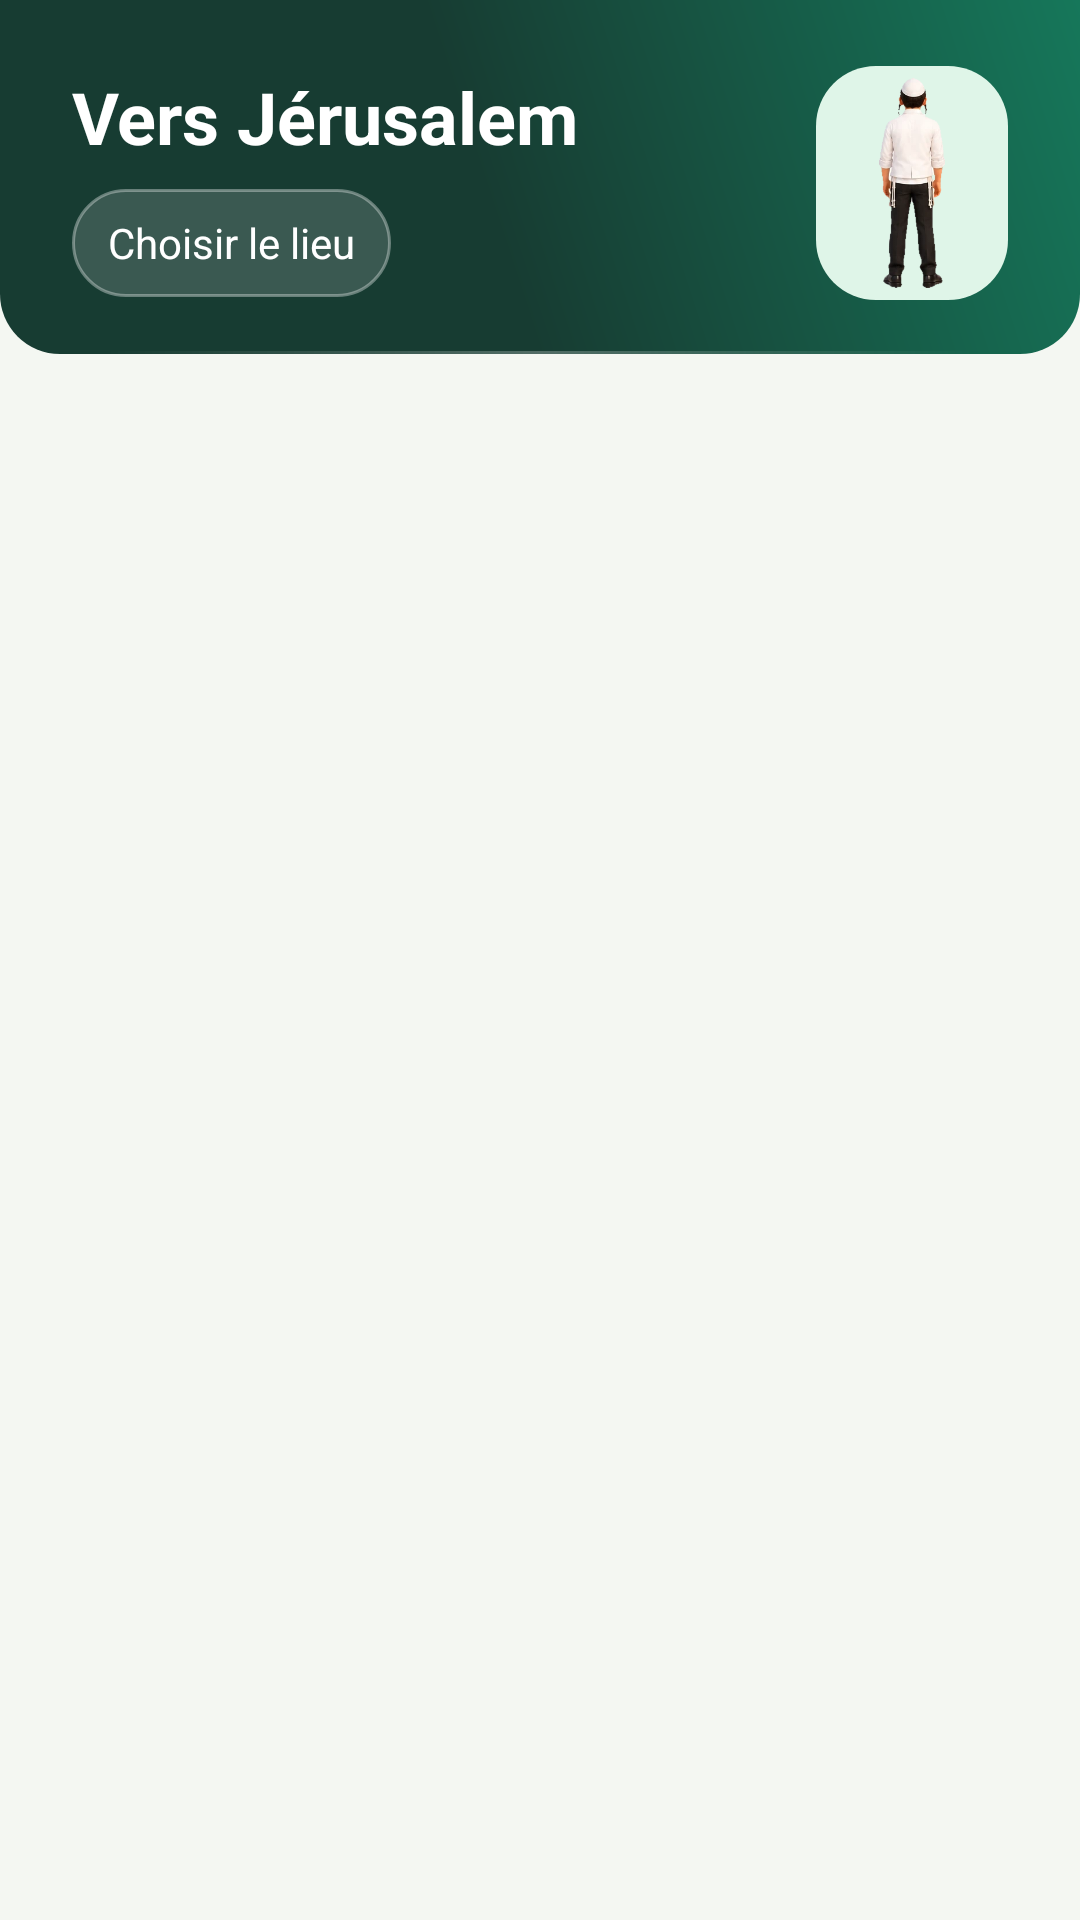

Locate icon controls on the screen. Image size 1080w x 1920h, boxes as (x1, y1, x2, y2).
char standing back: (879, 80, 944, 288)
